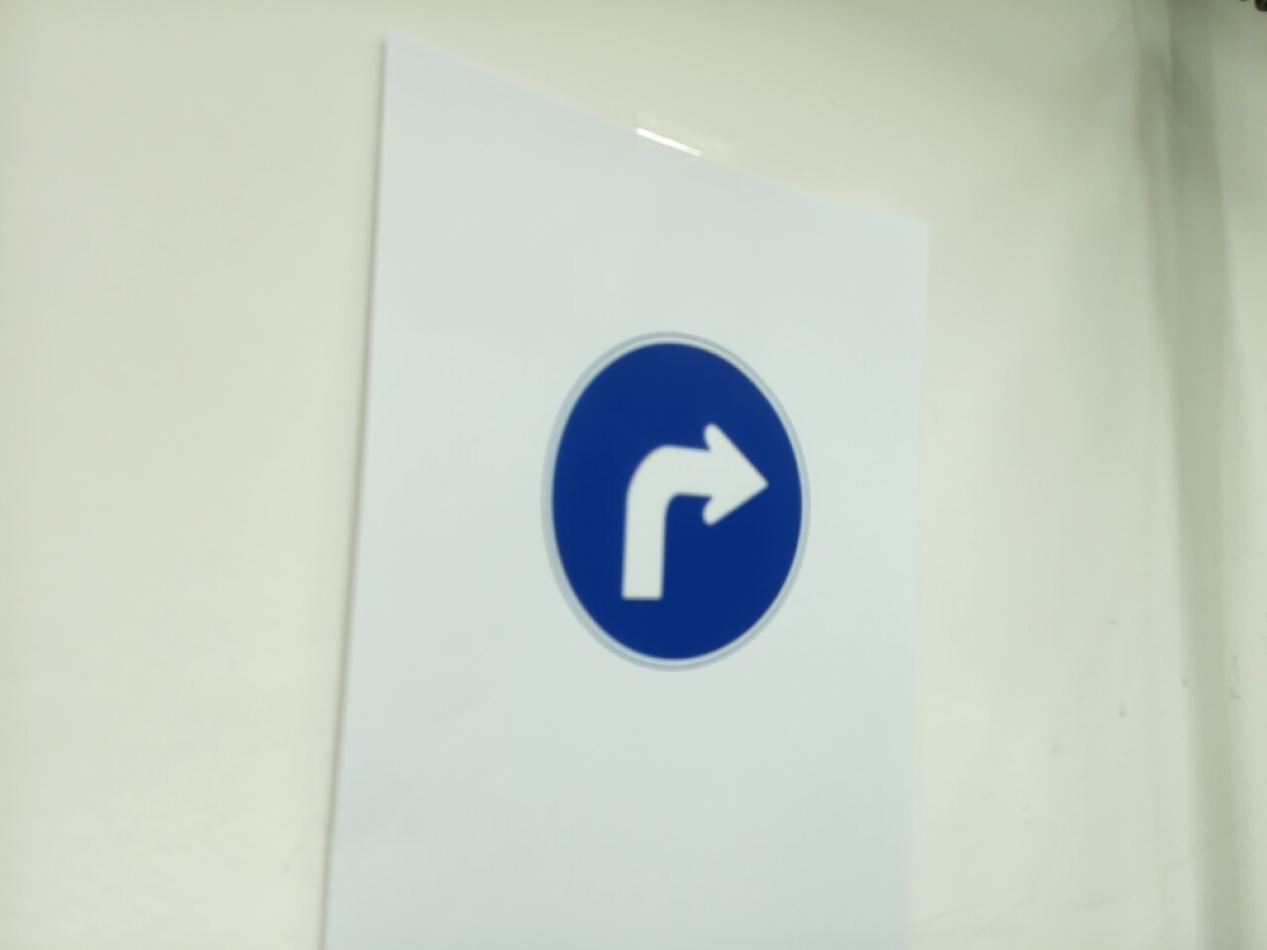right_turn: (542, 333, 811, 670)
